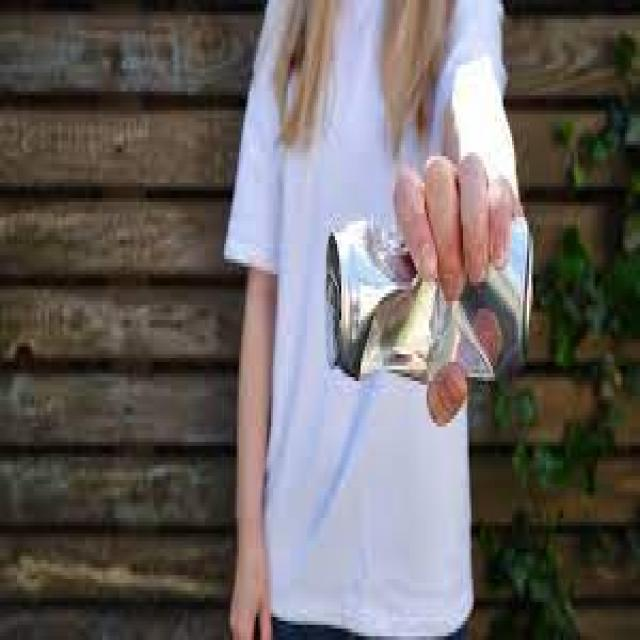Metal: (329, 208, 536, 384)
